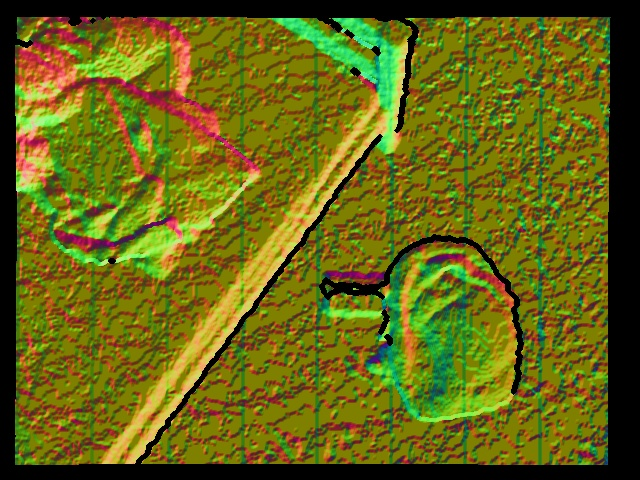station: (322, 273, 387, 316)
